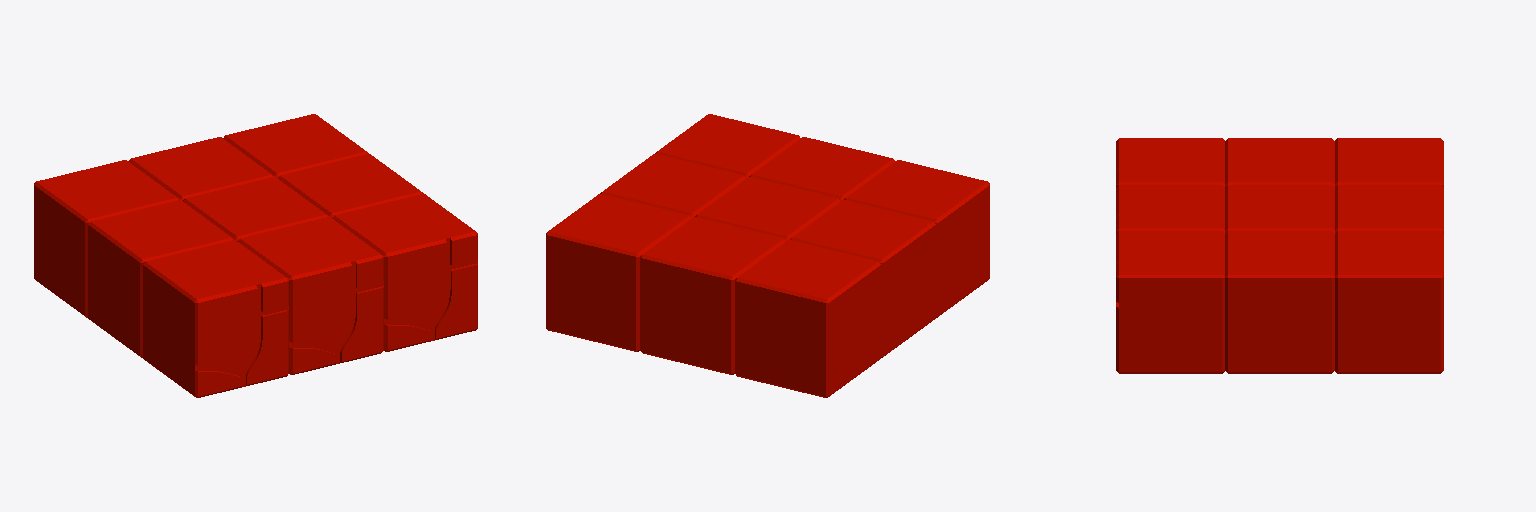
Rendered from GroundBlocks3x3.obj.
3 views of the same model, side by side, from view 1: azimuth 30°, elevation 25°; view 2: azimuth 150°, elevation 25°; view 3: azimuth 270°, elevation 25° (orthographic).
Parts seen in each view (by area): view 1: Ground_Blocks_Triple; view 2: Ground_Blocks_Triple; view 3: Ground_Blocks_Triple.
Boxes of the visible parts, x1=… form: Ground_Blocks_Triple: x1=34, y1=114, x2=477, y2=397; Ground_Blocks_Triple: x1=546, y1=114, x2=989, y2=397; Ground_Blocks_Triple: x1=1116, y1=138, x2=1443, y2=373.
Bounding box in the file's own units: 114 × 38 × 114.